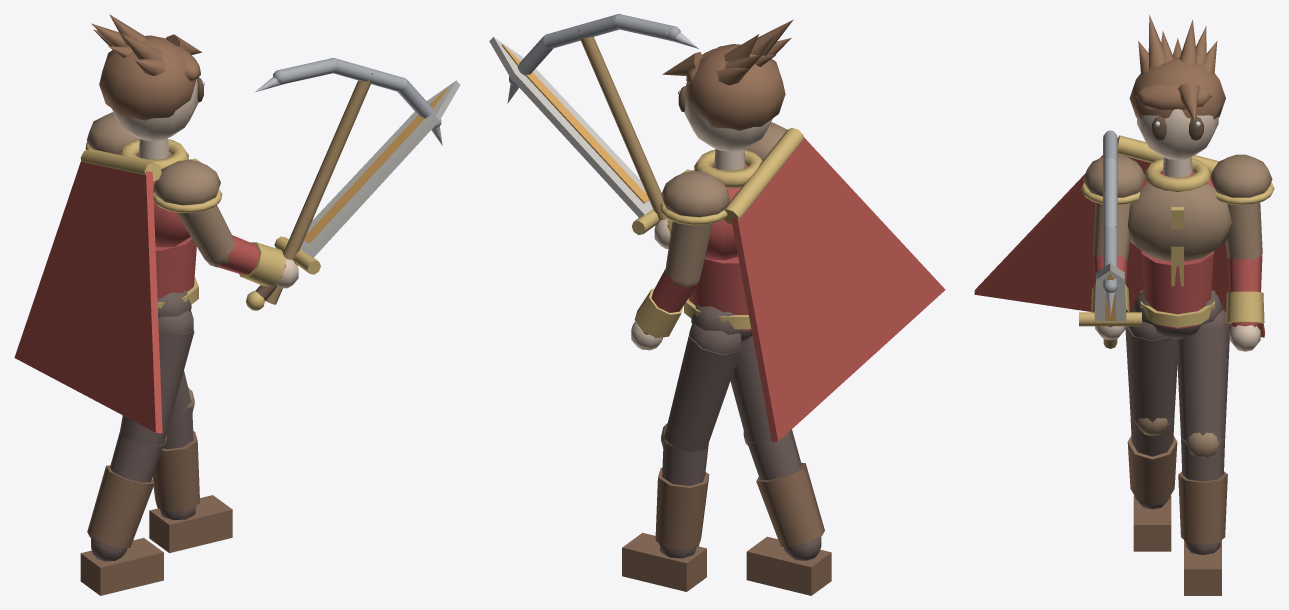
File: hero_0_iskra.glb
The picture shows the model from 3 angles, left to right: view 1: azimuth 30°, elevation 25°; view 2: azimuth 150°, elevation 25°; view 3: azimuth 270°, elevation 25°; orthographic projection. The views are drawn at different scales.
Visible parts, largest first — view 1: Cape, LegR, Torso, Head, LegL, Weapon, Pickaxe, ArmR; view 2: Cape, LegL, LegR, Torso, Head, Weapon, Pickaxe, ArmL; view 3: Torso, LegL, Cape, LegR, Head, ArmL, Pickaxe, ArmR, Weapon.
Part boxes in pixels (left/top/right/bottom): Cape: left=14, top=148, right=162, bottom=433; LegR: left=80, top=310, right=194, bottom=595; Torso: left=85, top=112, right=222, bottom=318; Head: left=91, top=14, right=204, bottom=141; LegL: left=149, top=371, right=232, bottom=552; Weapon: left=246, top=80, right=460, bottom=310; Pickaxe: left=255, top=58, right=442, bottom=304; ArmR: left=176, top=205, right=298, bottom=288; Cape: left=724, top=127, right=945, bottom=441; LegL: left=622, top=324, right=743, bottom=591; LegR: left=730, top=335, right=831, bottom=595; Torso: left=660, top=122, right=787, bottom=341; Head: left=662, top=19, right=793, bottom=151; Weapon: left=489, top=37, right=659, bottom=234; Pickaxe: left=507, top=14, right=698, bottom=220; ArmL: left=631, top=221, right=712, bottom=350; Torso: left=1081, top=154, right=1274, bottom=339; LegL: left=1176, top=310, right=1230, bottom=595; Cape: left=974, top=135, right=1265, bottom=337; LegR: left=1125, top=310, right=1177, bottom=551; Head: left=1129, top=15, right=1225, bottom=160; ArmL: left=1225, top=202, right=1264, bottom=351; Pickaxe: left=1103, top=130, right=1117, bottom=348; ArmR: left=1091, top=202, right=1130, bottom=340; Weapon: left=1079, top=263, right=1141, bottom=327.
Size of the model in its own units: 1.96 by 2.74 by 1.43.
